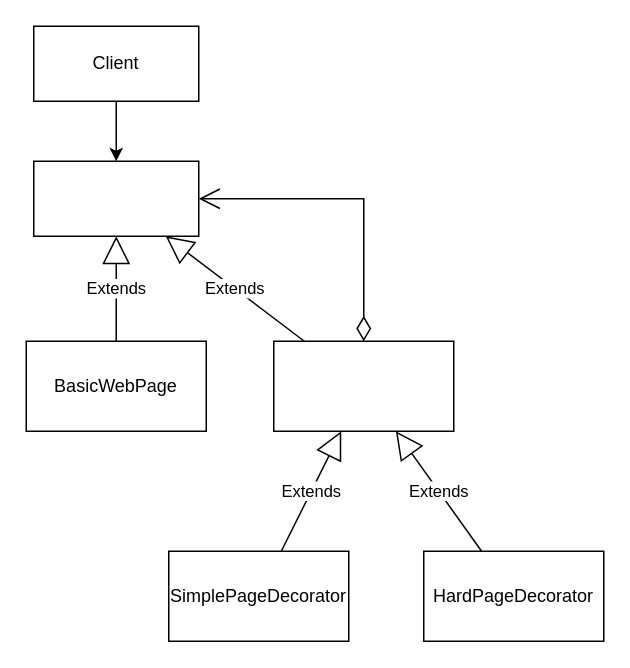
Image size: 630x668. Some labels were removed from this diagram. Here are the shapes that lost their labels. From the top down, the centre of each, then its label:
At pixel 115 198: "«interface» IWebPage".
At pixel 363 385: "WebPageDecorator".
